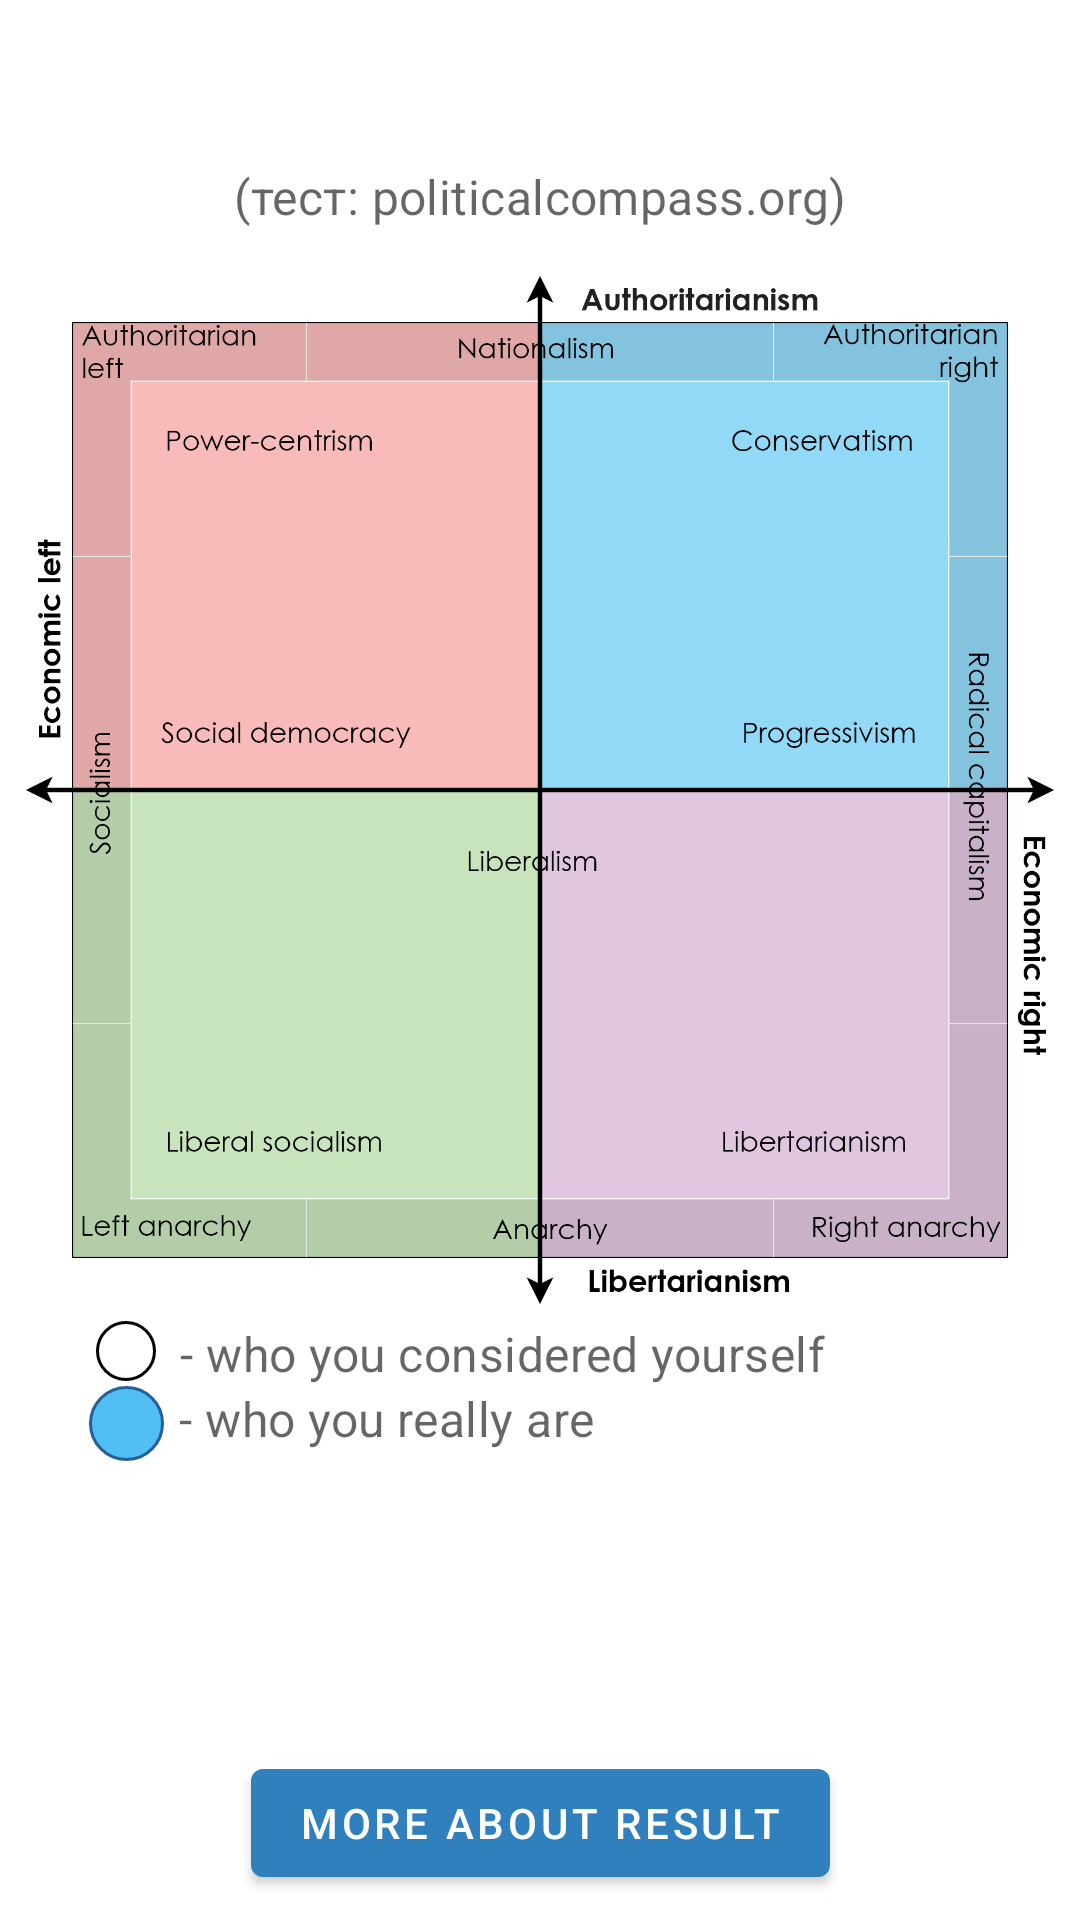

Icon click points for this 1080 x 1920 phone screenshot, format point (x, y):
shape circle: point (126, 1351), point (126, 1423)
